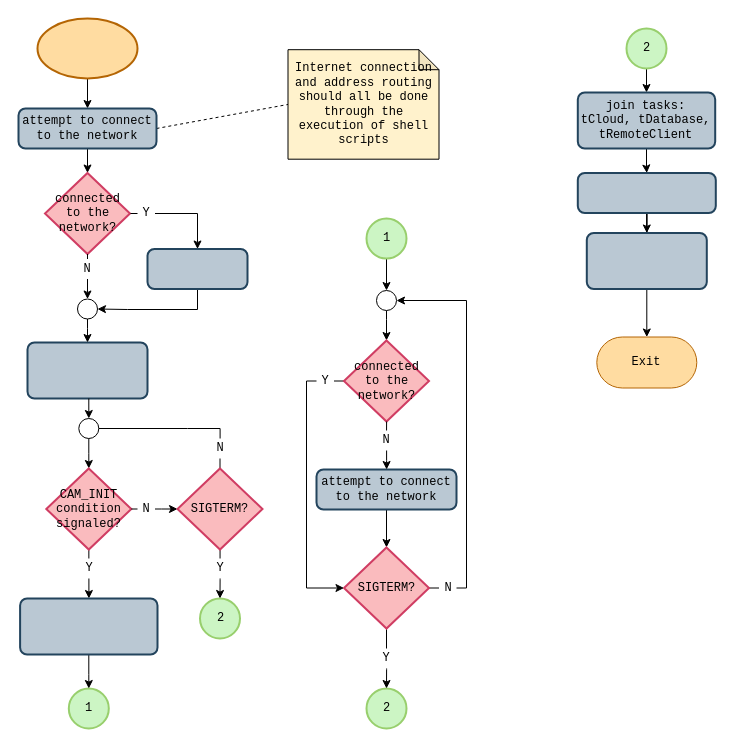
Image size: 734x746. Some labels were removed from this diagram. Here are the shapes that lost their labels. From the top down, the box of each, then its label:
(36, 17, 138, 79): Start
(576, 172, 716, 214): close connection to the network
(146, 248, 248, 290): turn NET_WIFI led on
(585, 232, 707, 290): join tasks: tCameraControl, tMLInference
(26, 341, 148, 399): create tasks: tCameraControl, tMLInference
(19, 597, 158, 655): create tasks: tCloud, tDatabase, tRemoteClient
